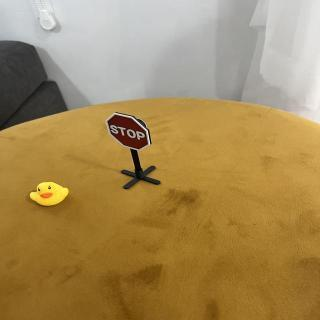duck_regular: (29, 181, 72, 208)
sign_stop: (106, 111, 154, 153)
